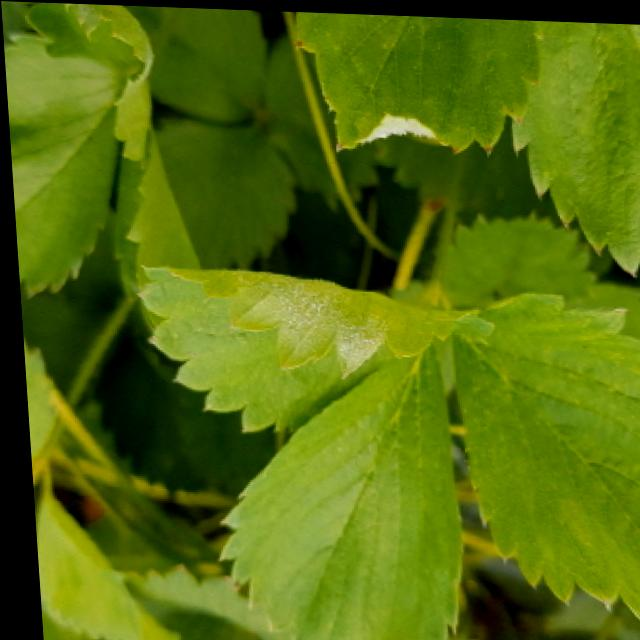Powdery Mildew Leaf: (129, 261, 493, 452), (292, 9, 540, 154), (22, 1, 154, 160)
